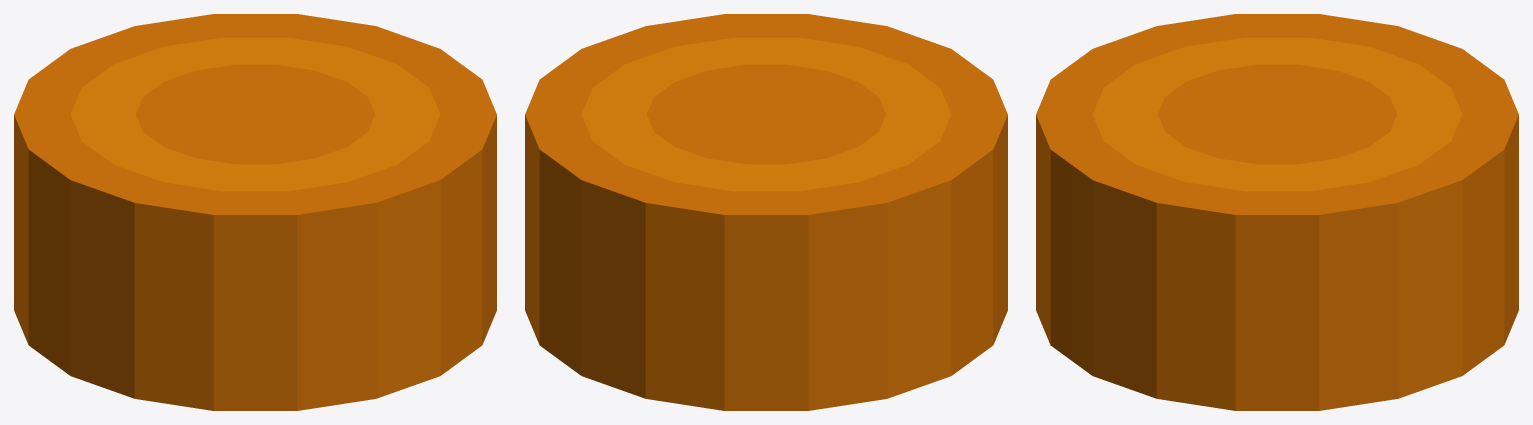
Rendered from Tree log_4.fbx.
3 renders of one model, left to right at view 1: azimuth 30°, elevation 25°; view 2: azimuth 150°, elevation 25°; view 3: azimuth 270°, elevation 25°, orthographic.
Visible parts, largest first — view 1: Circle.144; view 2: Circle.144; view 3: Circle.144.
Part boxes in pixels (left/top/right/bottom): Circle.144: left=14, top=14, right=496, bottom=410; Circle.144: left=525, top=14, right=1007, bottom=410; Circle.144: left=1036, top=14, right=1518, bottom=410.
Bounding box in the file's own units: 20.08 × 9.13 × 20.39.
